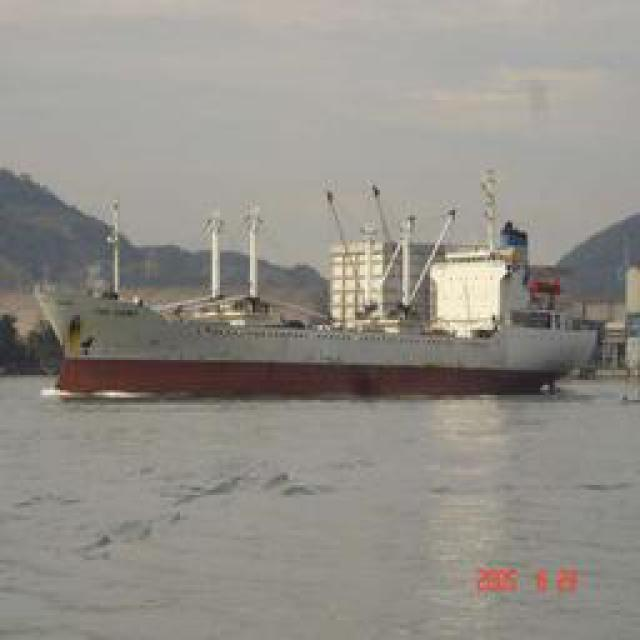Ship: (39, 182, 614, 402)
